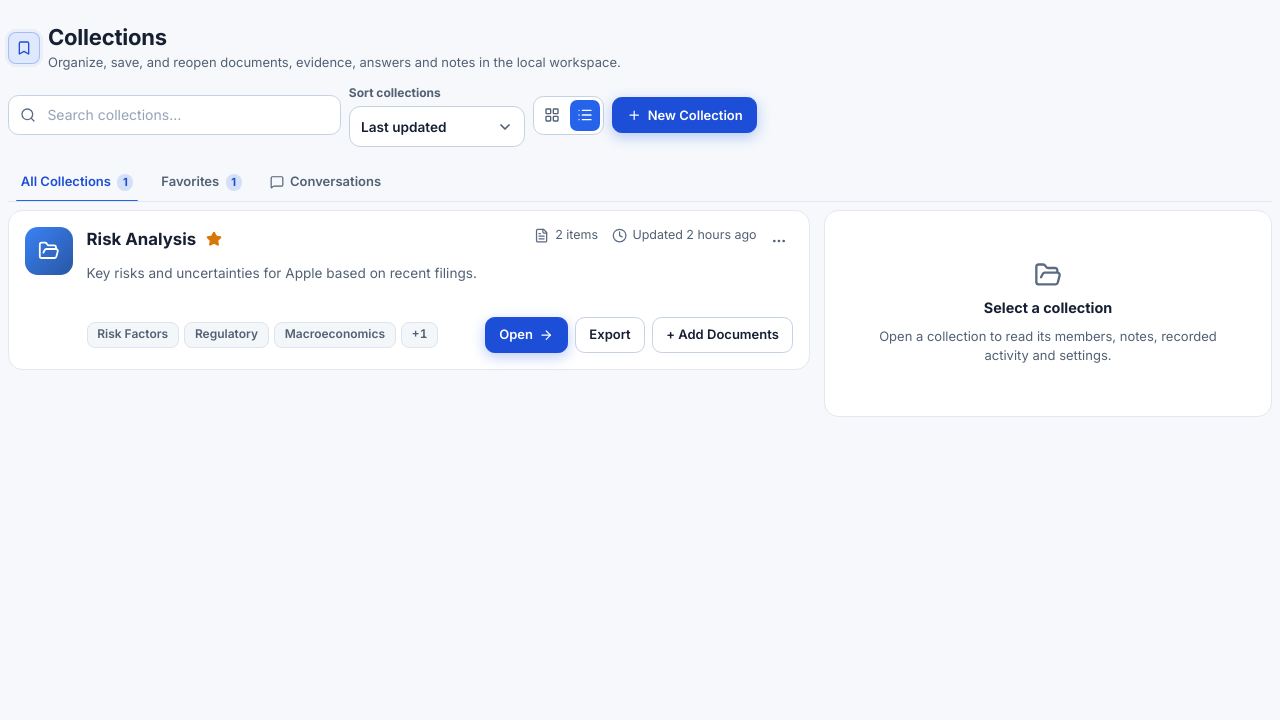
Test: CollectionsWorkspace › the list menu requires confirmation and Cancel or Escape performs no write
Click the button named "Actions for Risk Analysis" at {"x": 779, "y": 241}, box top-left (765, 227), bottom-right (793, 256)
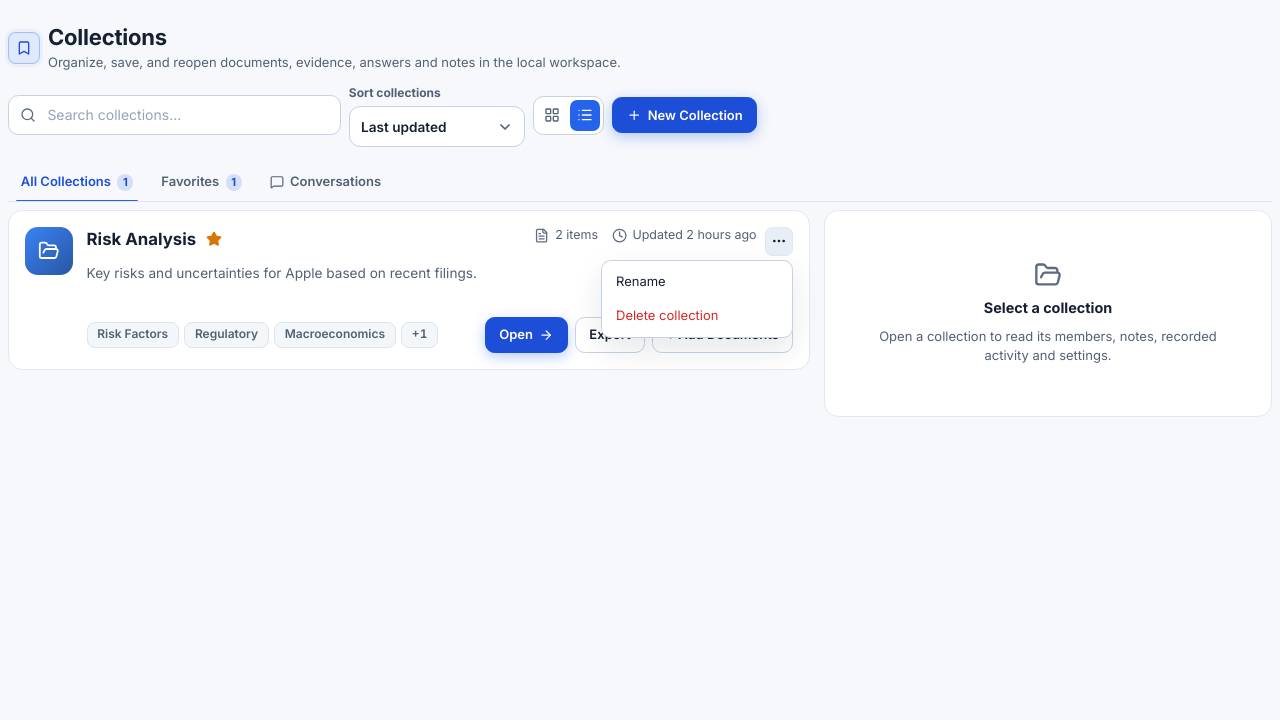
Click the menu item "Delete collection" at {"x": 697, "y": 316}, box top-left (606, 299), bottom-right (788, 333)
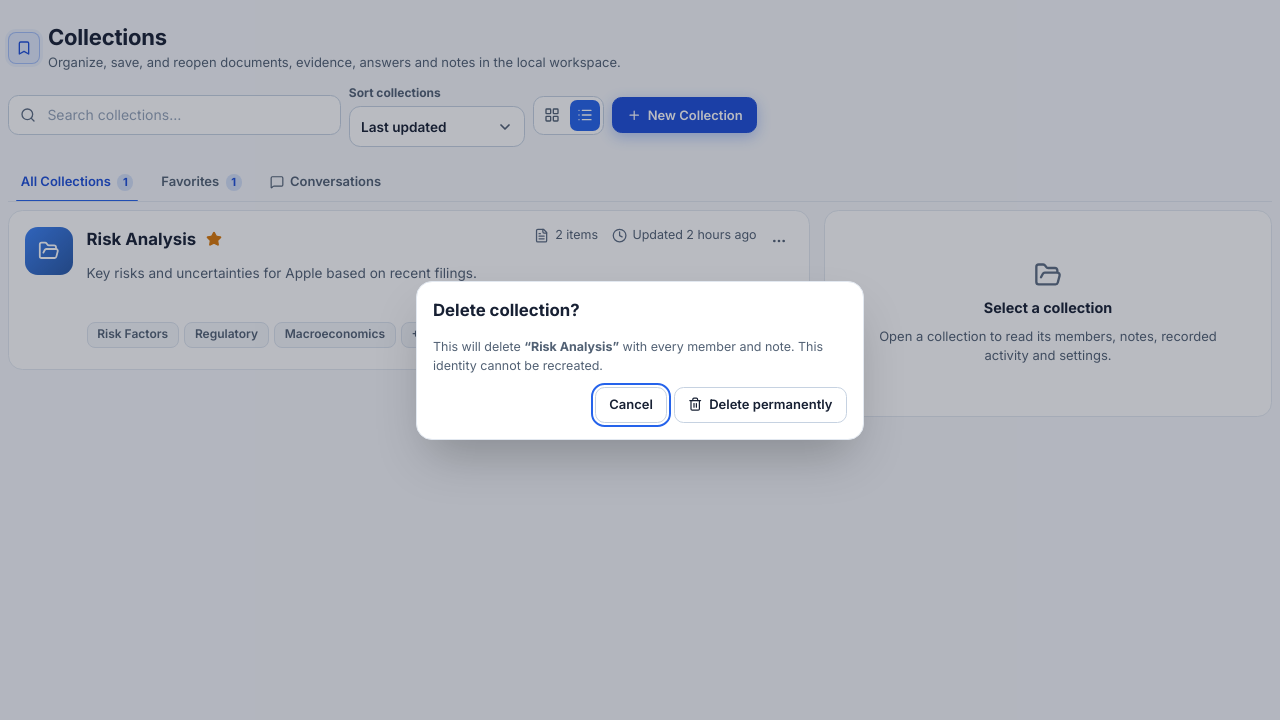
Result: the text "“Risk Analysis”" is shown at top-left (524, 339), bottom-right (619, 354)
Click the button "Cancel" at {"x": 631, "y": 404}, box top-left (595, 386), bottom-right (668, 422)
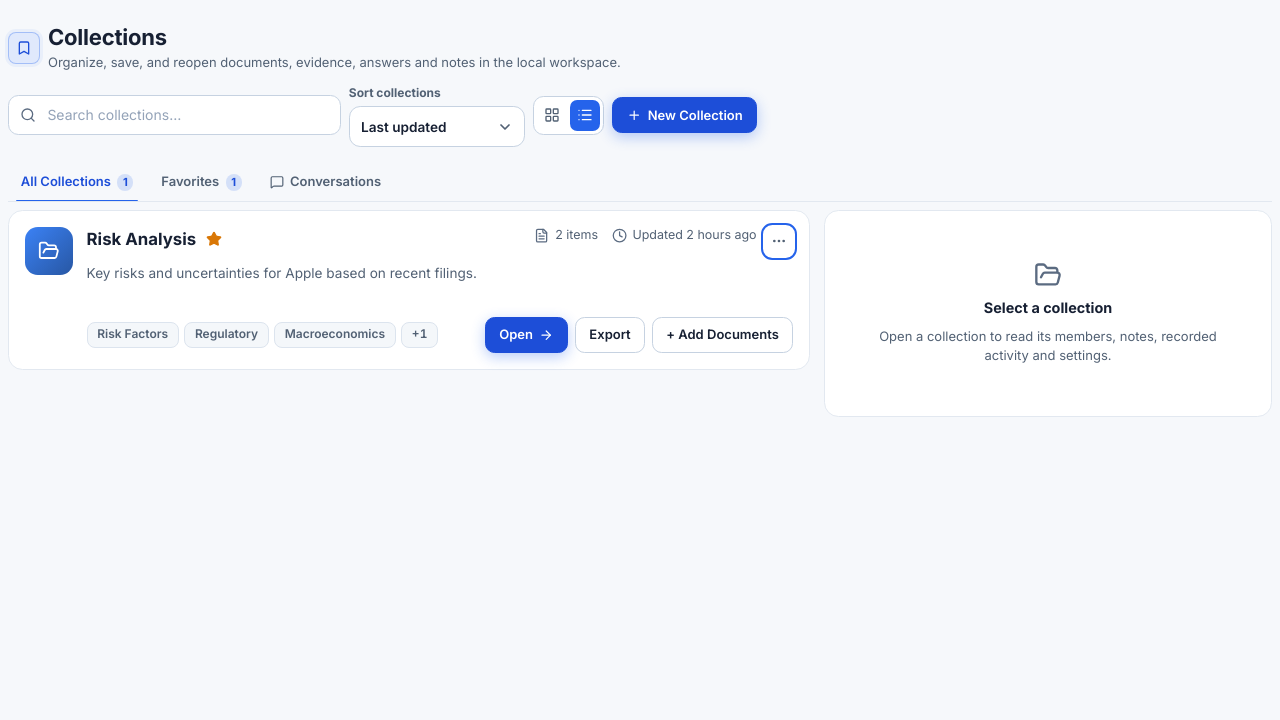
Click the button named "Actions for Risk Analysis" at {"x": 779, "y": 241}, box top-left (765, 227), bottom-right (793, 256)
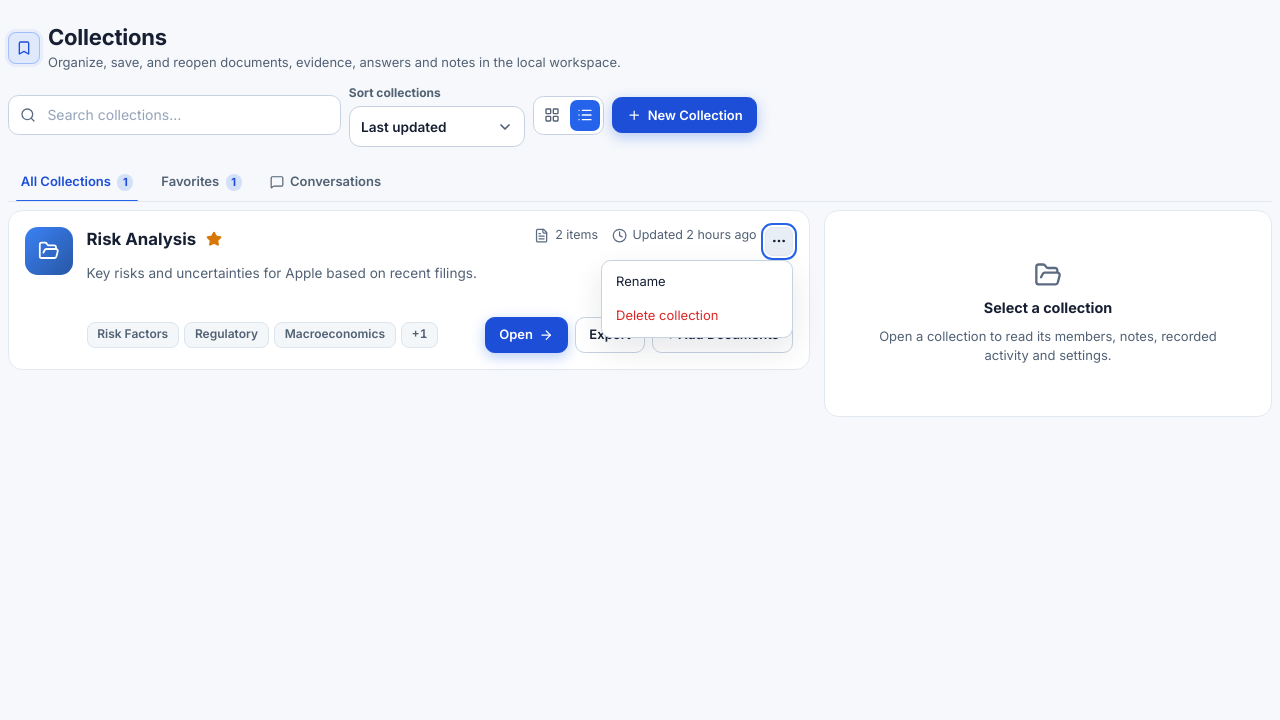
Click the menu item "Delete collection" at {"x": 697, "y": 316}, box top-left (606, 299), bottom-right (788, 333)
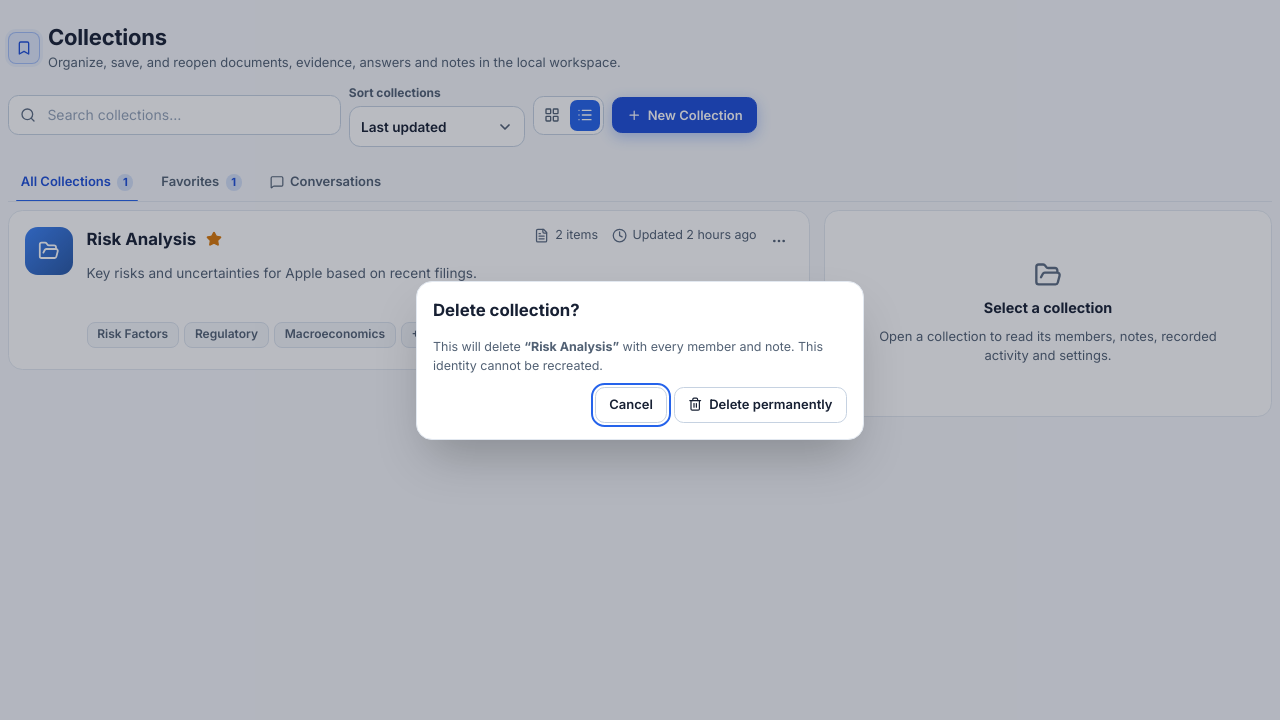
Press Escape
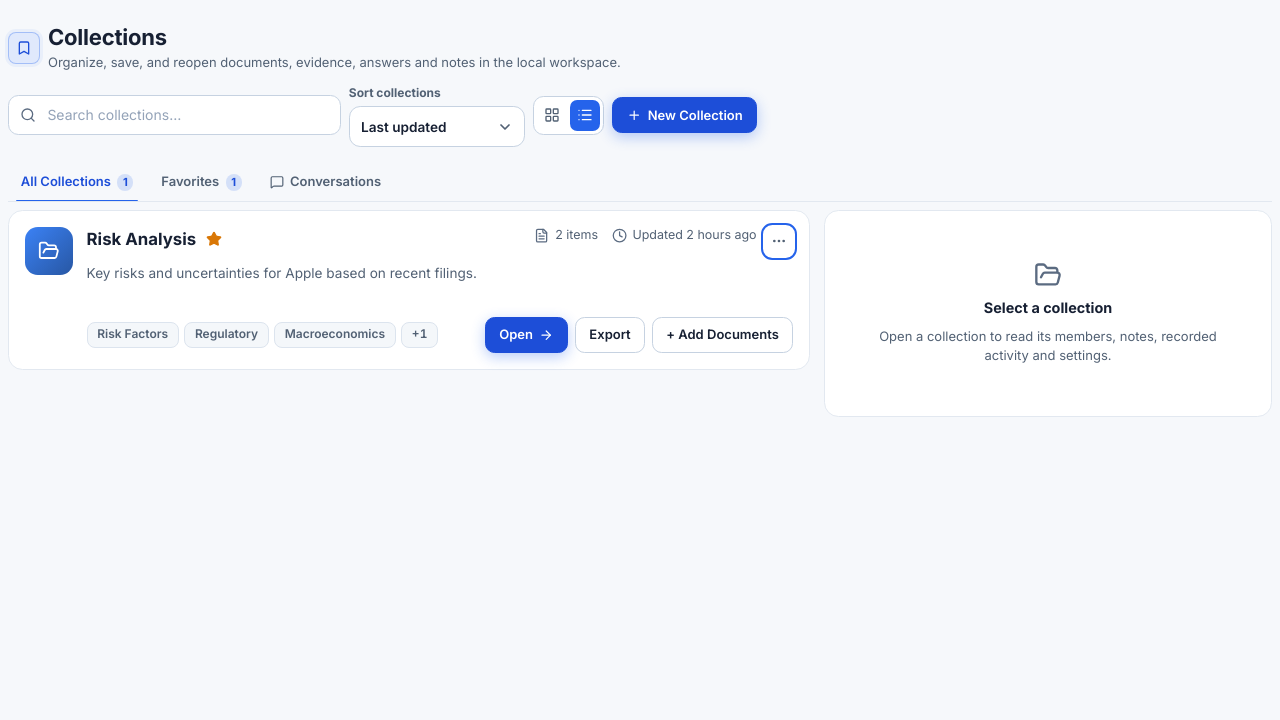
Result: the heading "Delete collection?" is gone
